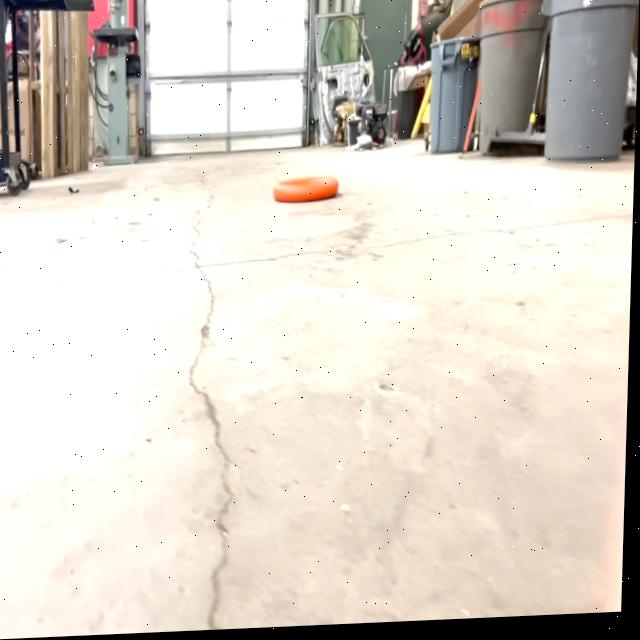note: (273, 177, 342, 210)
